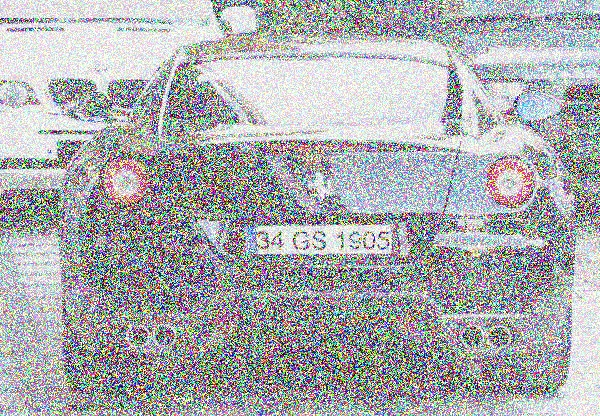plaka: (256, 225, 392, 254)
